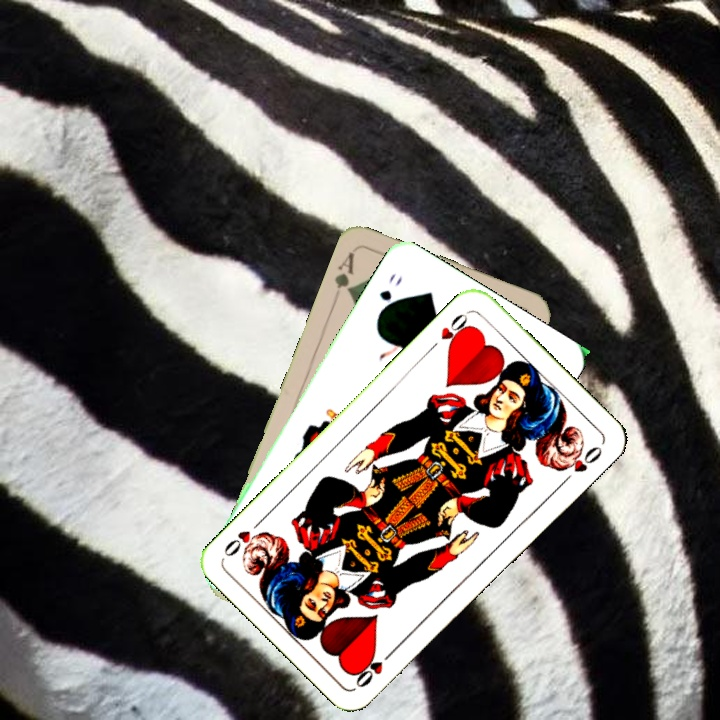GA: (330, 247, 357, 297)
GO: (374, 270, 405, 320)
HO: (425, 307, 474, 354), (351, 644, 398, 690)
